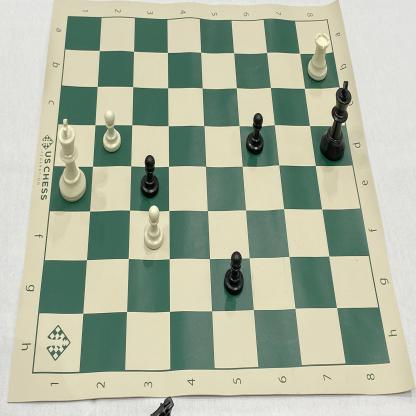king: (50, 114, 92, 207), (316, 77, 354, 162)
pawn: (240, 106, 266, 160), (140, 200, 166, 254), (99, 107, 125, 159), (138, 148, 162, 202), (223, 247, 247, 298)
rook: (303, 25, 331, 84)
